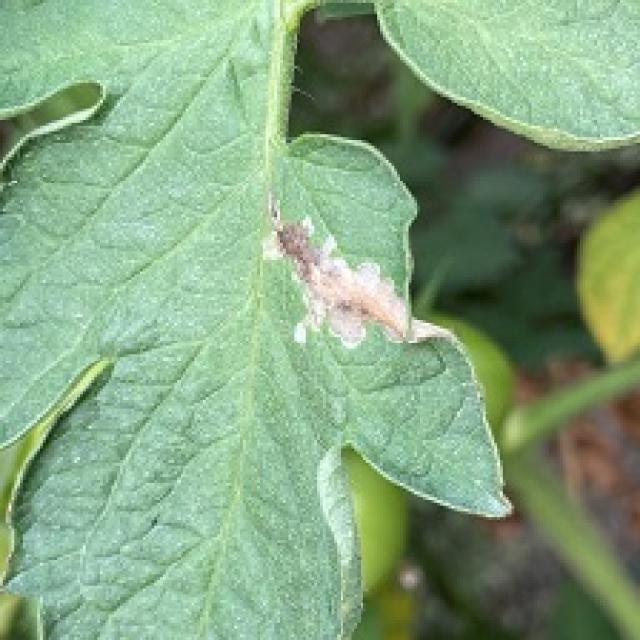Tuta absoluta: (211, 172, 449, 413)
